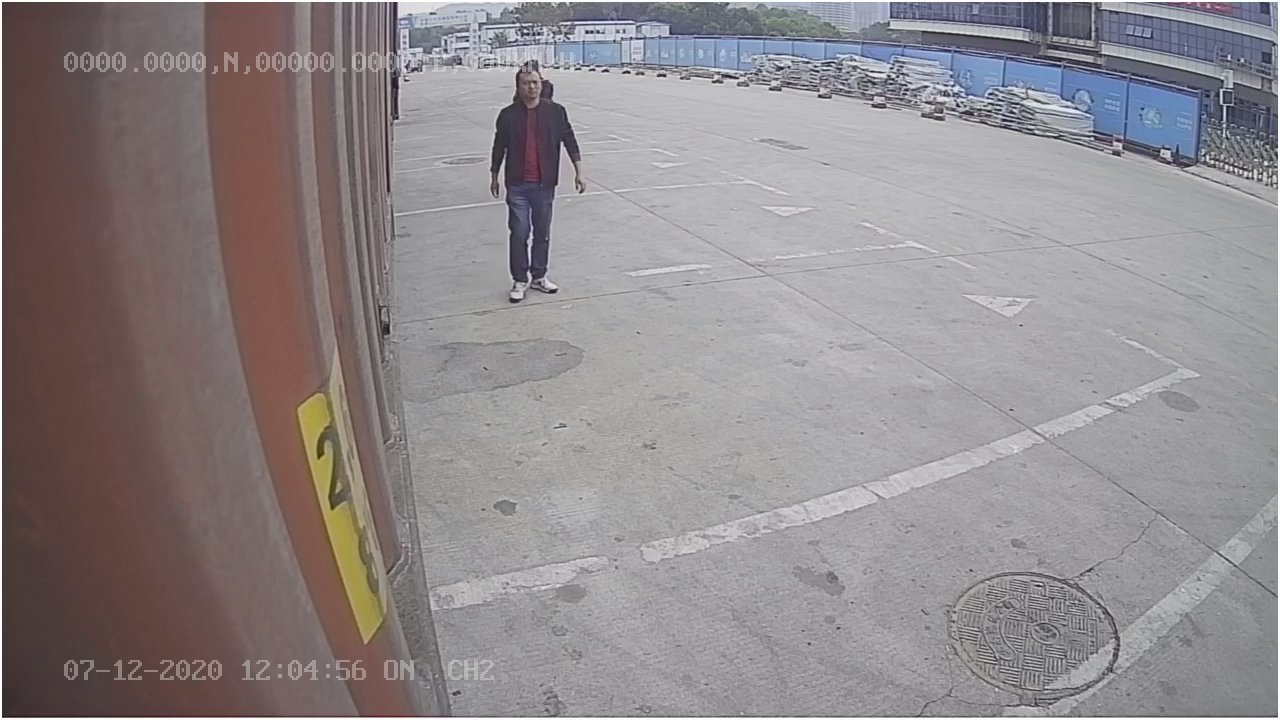person: (490, 69, 587, 308)
